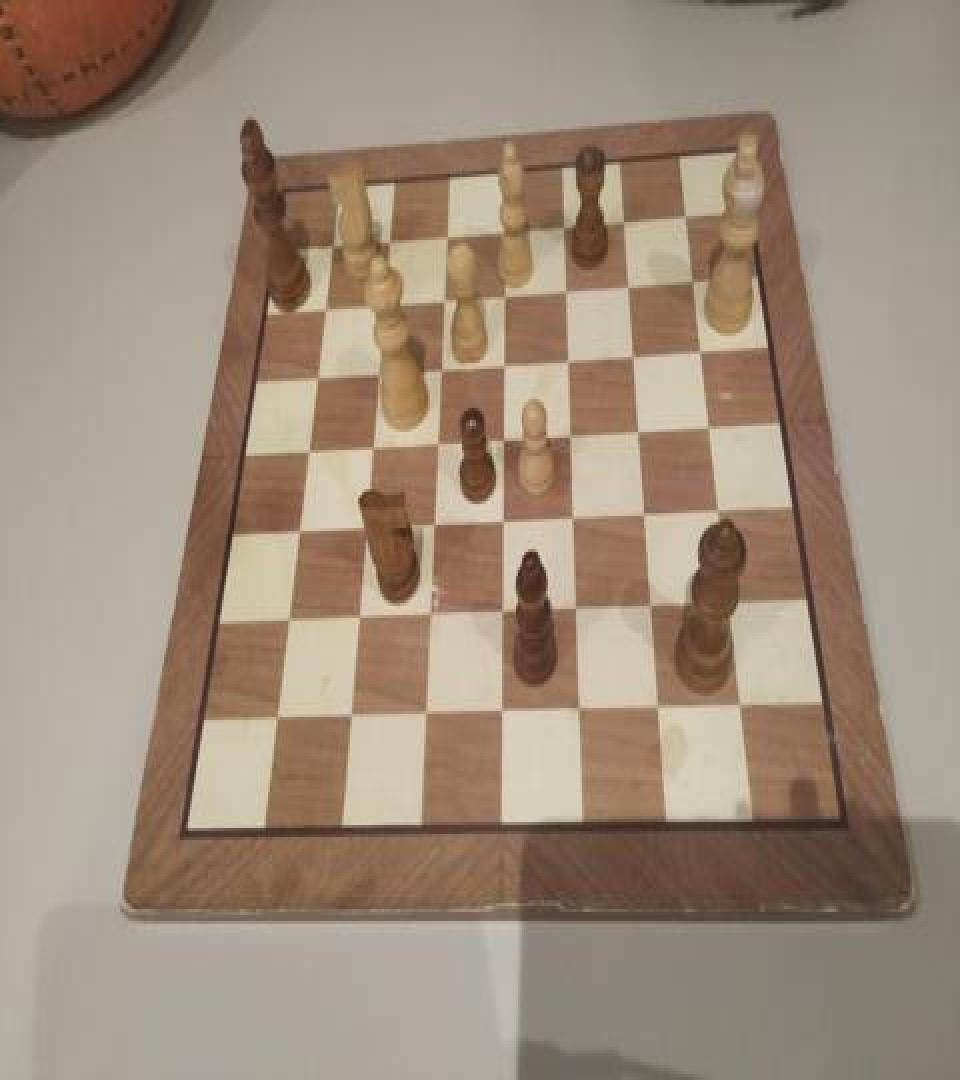xcorner: (265, 702, 285, 732), (340, 700, 360, 730), (415, 699, 435, 729), (571, 696, 591, 726), (651, 694, 671, 724), (732, 693, 752, 723), (277, 604, 297, 634), (420, 600, 440, 630), (493, 597, 513, 627), (644, 592, 664, 622), (721, 591, 741, 621), (288, 514, 308, 544), (355, 513, 375, 543), (424, 510, 444, 540), (494, 507, 514, 537), (565, 504, 585, 534), (637, 501, 657, 531), (711, 498, 731, 528), (297, 434, 317, 464), (362, 430, 382, 460), (428, 428, 448, 458), (495, 424, 515, 454), (563, 422, 583, 452), (632, 417, 652, 447), (702, 414, 722, 444), (306, 360, 326, 390), (369, 356, 389, 386), (432, 352, 452, 382), (496, 350, 516, 380), (560, 345, 580, 375), (626, 340, 646, 370), (693, 338, 713, 368), (315, 291, 335, 321), (374, 288, 394, 318), (435, 284, 455, 314), (496, 279, 516, 309), (558, 276, 578, 306), (621, 272, 641, 302), (685, 267, 705, 297), (322, 228, 342, 258), (380, 225, 400, 255), (438, 220, 458, 250), (497, 216, 517, 246), (556, 212, 576, 242), (617, 207, 637, 237), (678, 202, 698, 232), (493, 698, 513, 727), (348, 602, 368, 631), (568, 596, 588, 625)
